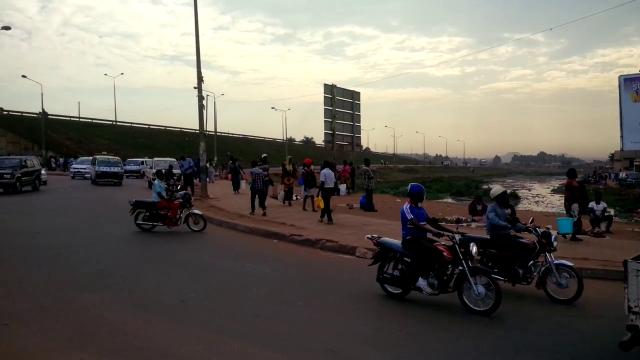car: (0, 154, 40, 190), (69, 155, 92, 180)
motorcycle: (370, 206, 506, 324), (456, 212, 586, 315), (128, 178, 208, 240), (162, 165, 177, 194)
truck: (146, 156, 183, 190)
van: (90, 153, 124, 186), (123, 159, 145, 178)
